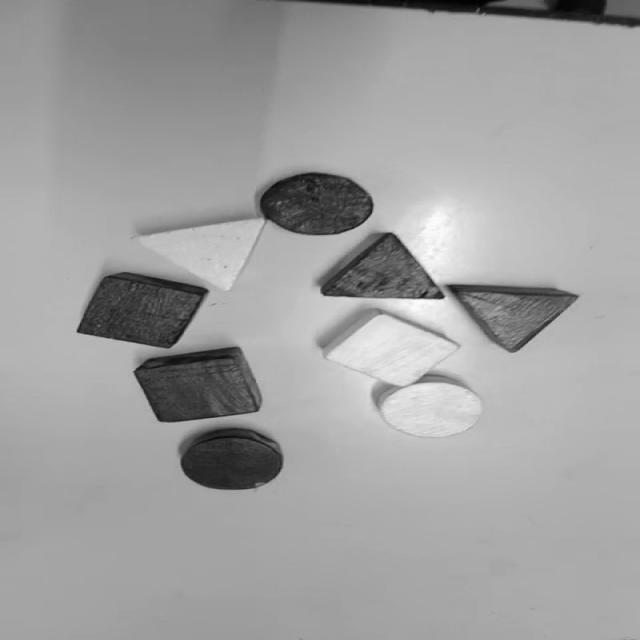bcircle: (262, 172, 372, 235)
bcube: (78, 273, 207, 348)
btriangle: (322, 233, 448, 299)
rcircle: (180, 428, 284, 489)
rcube: (134, 348, 265, 422)
rtriangle: (450, 285, 579, 353)
ycircle: (376, 376, 485, 438)
ycube: (324, 310, 459, 386)
ytriangle: (132, 218, 268, 292)
